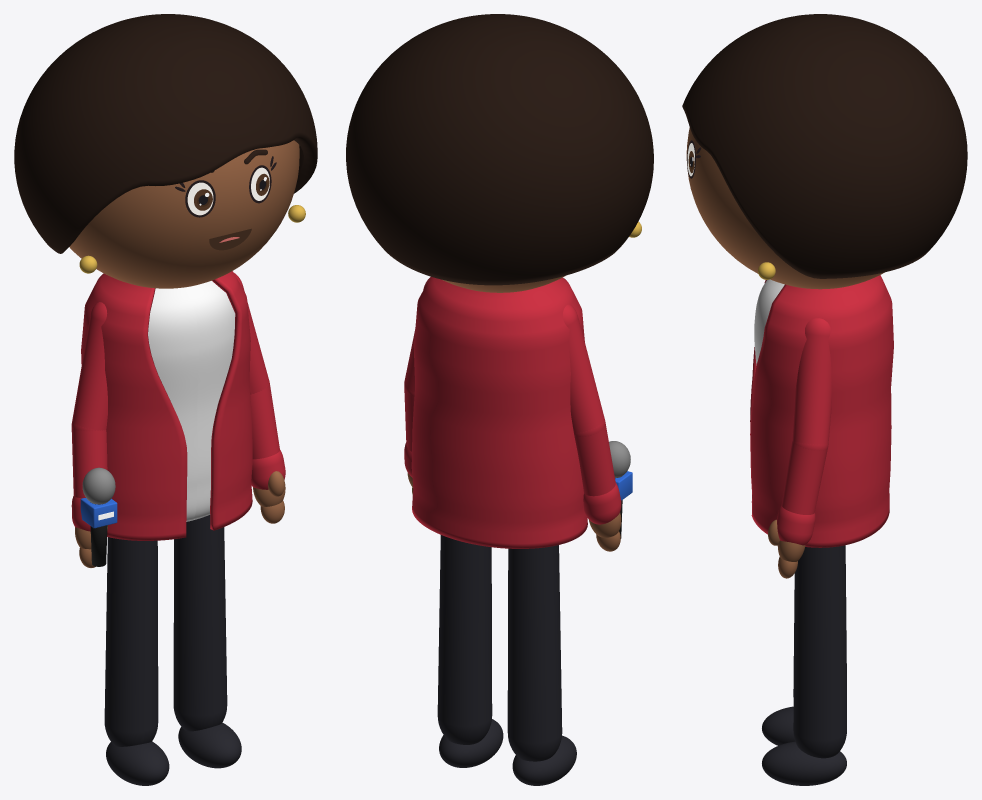
Rendered from nieuwslezeres.glb.
3 renders of one model, left to right at view 1: azimuth 30°, elevation 25°; view 2: azimuth 150°, elevation 25°; view 3: azimuth 270°, elevation 25°, orthographic.
Visible parts, largest first — view 1: nieuwslezeres_haar, nieuwslezeres_jas, nieuwslezeres_hoofd, nieuwslezeres_romp, nieuwslezeres_been_R, nieuwslezeres_been_L, nieuwslezeres_bovenarm_R, nieuwslezeres_schoen_R, nieuwslezeres_schoen_L, nieuwslezeres_onderarm_R, nieuwslezeres_onderarm_L, nieuwslezeres_bovenarm_L (+4 smaller); view 2: nieuwslezeres_haar, nieuwslezeres_jas, nieuwslezeres_been_R, nieuwslezeres_been_L, nieuwslezeres_bovenarm_R, nieuwslezeres_onderarm_R, nieuwslezeres_schoen_R, nieuwslezeres_schoen_L, nieuwslezeres_manchet_R, nieuwslezeres_hoofd, nieuwslezeres_microfoon_kop; view 3: nieuwslezeres_haar, nieuwslezeres_jas, nieuwslezeres_been_L, nieuwslezeres_hoofd, nieuwslezeres_bovenarm_L, nieuwslezeres_schoen_L, nieuwslezeres_onderarm_L, nieuwslezeres_manchet_L, nieuwslezeres_romp, nieuwslezeres_schoen_R.
Part boxes in pixels (x1=…): nieuwslezeres_haar: x1=14, y1=14, x2=317, y2=253; nieuwslezeres_jas: x1=81, y1=271, x2=252, y2=540; nieuwslezeres_hoofd: x1=69, y1=140, x2=299, y2=288; nieuwslezeres_romp: x1=148, y1=281, x2=235, y2=521; nieuwslezeres_been_R: x1=104, y1=537, x2=158, y2=746; nieuwslezeres_been_L: x1=173, y1=515, x2=227, y2=731; nieuwslezeres_bovenarm_R: x1=72, y1=302, x2=107, y2=430; nieuwslezeres_schoen_R: x1=106, y1=741, x2=169, y2=785; nieuwslezeres_schoen_L: x1=178, y1=722, x2=241, y2=768; nieuwslezeres_onderarm_R: x1=71, y1=426, x2=107, y2=498; nieuwslezeres_onderarm_L: x1=250, y1=385, x2=279, y2=459; nieuwslezeres_bovenarm_L: x1=234, y1=273, x2=269, y2=394; nieuwslezeres_haar: x1=346, y1=14, x2=653, y2=285; nieuwslezeres_jas: x1=411, y1=276, x2=587, y2=548; nieuwslezeres_been_R: x1=507, y1=545, x2=562, y2=761; nieuwslezeres_been_L: x1=437, y1=535, x2=492, y2=744; nieuwslezeres_bovenarm_R: x1=563, y1=304, x2=604, y2=436; nieuwslezeres_onderarm_R: x1=574, y1=423, x2=615, y2=496; nieuwslezeres_schoen_R: x1=512, y1=735, x2=576, y2=785; nieuwslezeres_schoen_L: x1=439, y1=719, x2=503, y2=767; nieuwslezeres_manchet_R: x1=583, y1=483, x2=621, y2=524; nieuwslezeres_hoofd: x1=442, y1=275, x2=565, y2=292; nieuwslezeres_microfoon_kop: x1=609, y1=441, x2=630, y2=477; nieuwslezeres_haar: x1=682, y1=14, x2=967, y2=278; nieuwslezeres_jas: x1=750, y1=275, x2=893, y2=547; nieuwslezeres_been_L: x1=793, y1=545, x2=846, y2=758; nieuwslezeres_hoofd: x1=686, y1=127, x2=884, y2=289; nieuwslezeres_bovenarm_L: x1=792, y1=318, x2=831, y2=450; nieuwslezeres_schoen_L: x1=762, y1=741, x2=846, y2=785; nieuwslezeres_onderarm_L: x1=781, y1=441, x2=827, y2=514; nieuwslezeres_manchet_L: x1=777, y1=505, x2=815, y2=545; nieuwslezeres_romp: x1=754, y1=279, x2=784, y2=365; nieuwslezeres_schoen_R: x1=762, y1=706, x2=795, y2=745.
Size of the model in its own units: 0.6657 by 1.77 by 0.6211.
